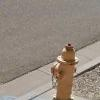Hydrant: (43, 33, 89, 99)
